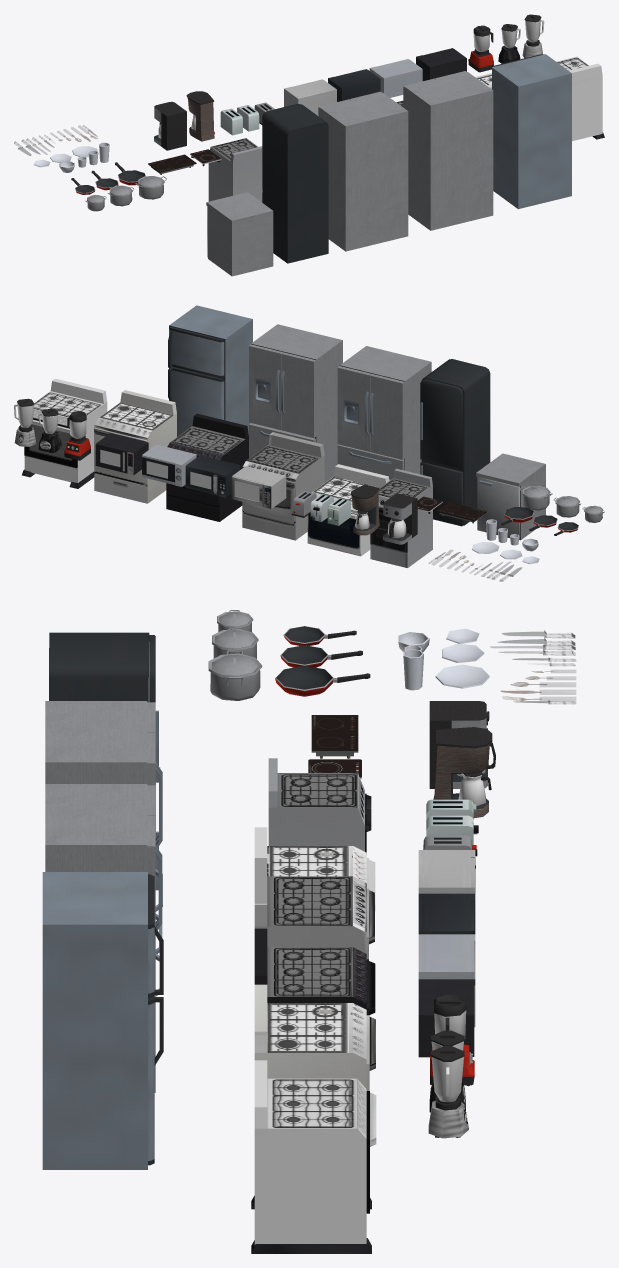
The model's file is electronics-kitchen.glb.
3 views of the same model, one above another, from view 1: azimuth 30°, elevation 25°; view 2: azimuth 150°, elevation 25°; view 3: azimuth 270°, elevation 25° (orthographic). The views are drawn at different scales.
Parts seen in each view (by area): view 1: Refrigerator_01, Refrigerator_02, Refrigerator, Refrigerator_03, Refrigerator_04, Stove_05, Stove, Coffee_maker_01, Microwave_01, Microwave_03, Microwave, Microwave_02 (+5 smaller); view 2: Refrigerator, Stove_01, Refrigerator_01, Refrigerator_03, Stove_03, Stove_02, Stove, Refrigerator_door_06, Refrigerator_02, Stove_05, Refrigerator_door_03, Refrigerator_door_05 (+33 smaller); view 3: Refrigerator, Stove, Refrigerator_01, Stove_01, Refrigerator_02, Stove_03, Stove_05, Refrigerator_03, Stove_02, Stove_04, Coffee_maker, Microwave_01 (+17 smaller).
Boxes of the visible parts, x1,y1,x2,y2 form: Refrigerator_01: [405, 72, 493, 230]; Refrigerator_02: [320, 92, 408, 251]; Refrigerator: [492, 54, 571, 209]; Refrigerator_03: [262, 104, 328, 263]; Refrigerator_04: [206, 192, 273, 276]; Stove_05: [208, 138, 262, 202]; Stove: [556, 56, 604, 141]; Coffee_maker_01: [154, 101, 186, 150]; Microwave_01: [369, 59, 422, 97]; Microwave_03: [284, 80, 336, 115]; Microwave: [416, 48, 466, 80]; Microwave_02: [328, 69, 380, 101]; Refrigerator: [168, 305, 252, 436]; Stove_01: [94, 390, 176, 503]; Refrigerator_01: [251, 324, 342, 482]; Refrigerator_03: [421, 359, 490, 525]; Stove_03: [242, 432, 324, 540]; Stove_02: [166, 413, 248, 521]; Stove: [22, 378, 107, 488]; Refrigerator_door_06: [420, 379, 463, 469]; Refrigerator_02: [339, 346, 431, 474]; Stove_05: [370, 468, 432, 567]; Refrigerator_door_03: [281, 352, 316, 438]; Refrigerator_door_05: [370, 374, 404, 459]; Refrigerator: [42, 872, 163, 1169]; Stove: [251, 1060, 371, 1253]; Refrigerator_01: [45, 784, 147, 871]; Stove_01: [254, 984, 366, 1088]; Refrigerator_02: [45, 701, 147, 783]; Stove_03: [254, 858, 366, 953]; Stove_05: [268, 758, 364, 851]; Refrigerator_03: [49, 632, 149, 702]; Stove_02: [254, 928, 366, 1009]; Stove_04: [254, 827, 366, 882]; Coffee_maker: [433, 727, 492, 818]; Microwave_01: [418, 934, 475, 979].
Bounding box in the file's own units: 9.32 × 2.27 × 4.12.
13 materials, 10 textured.
